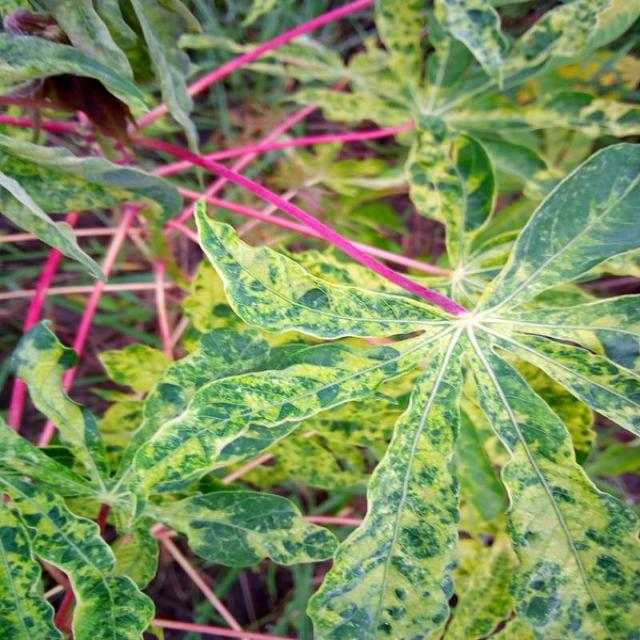cassava leaf: (119, 130, 639, 638)
